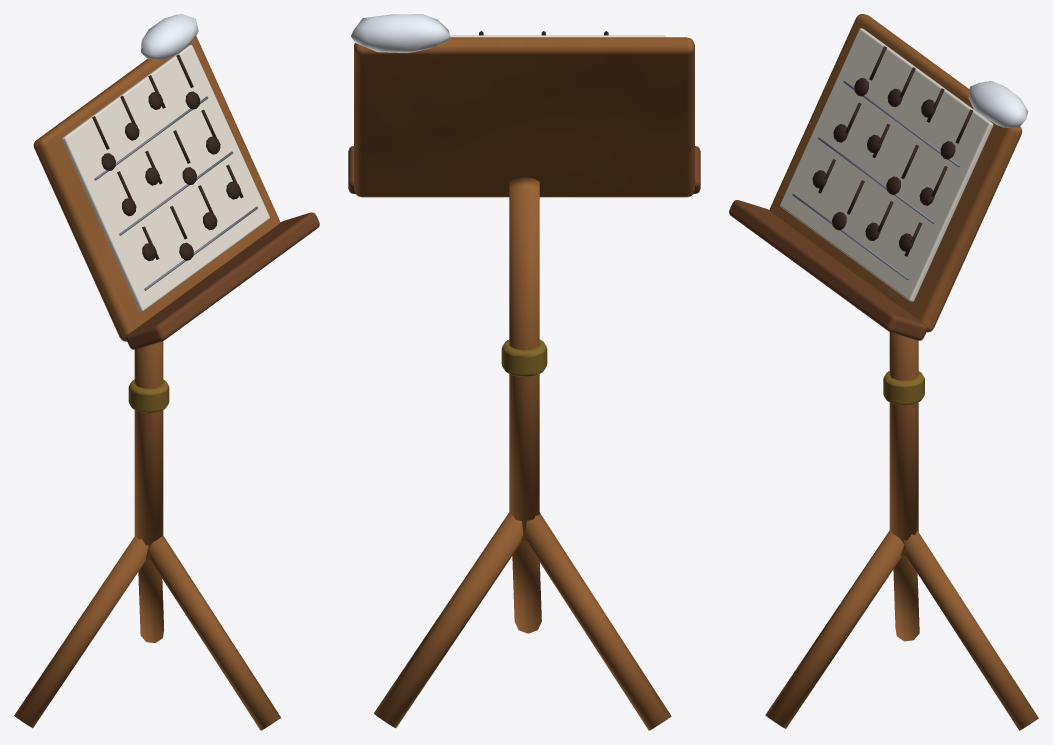
File: music_stand.glb
The picture shows the model from 3 angles, left to right: view 1: azimuth 30°, elevation 25°; view 2: azimuth 150°, elevation 25°; view 3: azimuth 270°, elevation 25°; orthographic projection. The views are drawn at different scales.
Parts seen in each view (by area): view 1: desk; view 2: desk; view 3: desk.
Part boxes in pixels (x1,y1,x2,y2): desk: (14, 14, 319, 730); desk: (348, 14, 700, 730); desk: (729, 14, 1038, 730).
Size of the model in its own units: 0.6716 by 1.36 by 0.5926.
Materials: 1 (1 with a texture image).
